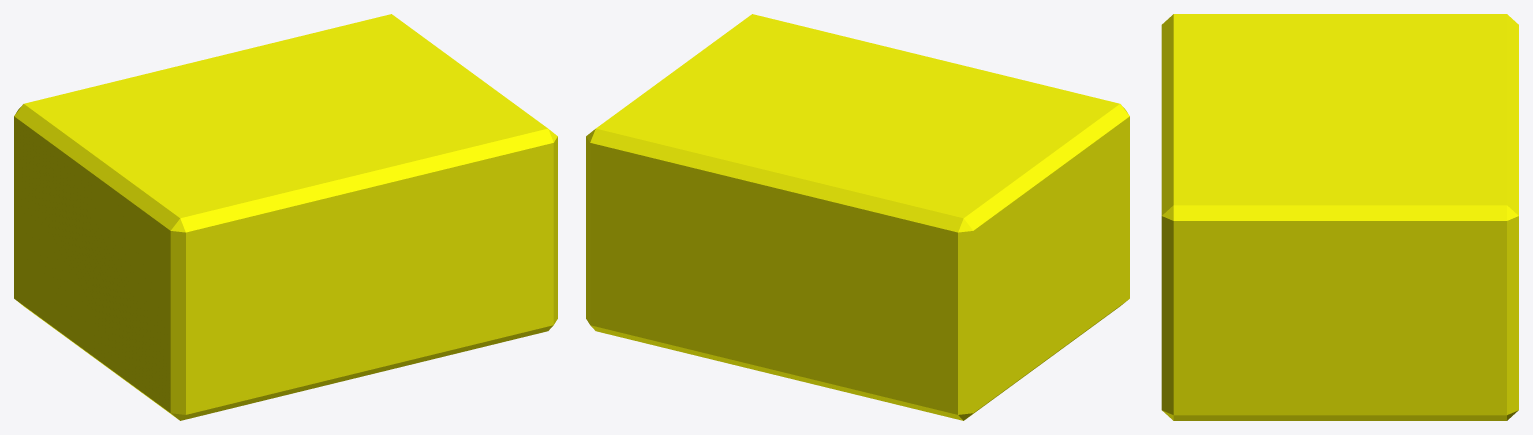
File: kaykit-box-c.glb
3 views of the same model, side by side, from view 1: azimuth 30°, elevation 25°; view 2: azimuth 150°, elevation 25°; view 3: azimuth 270°, elevation 25° (orthographic). The views are drawn at different scales.
Parts seen in each view (by area): view 1: Box_C; view 2: Box_C; view 3: Box_C.
Boxes of the visible parts, left/top/right/bottom form: Box_C: left=14, top=14, right=557, bottom=420; Box_C: left=586, top=14, right=1129, bottom=420; Box_C: left=1161, top=14, right=1518, bottom=420.
Size of the model in its own units: 0.8 by 0.4022 by 0.6061.
